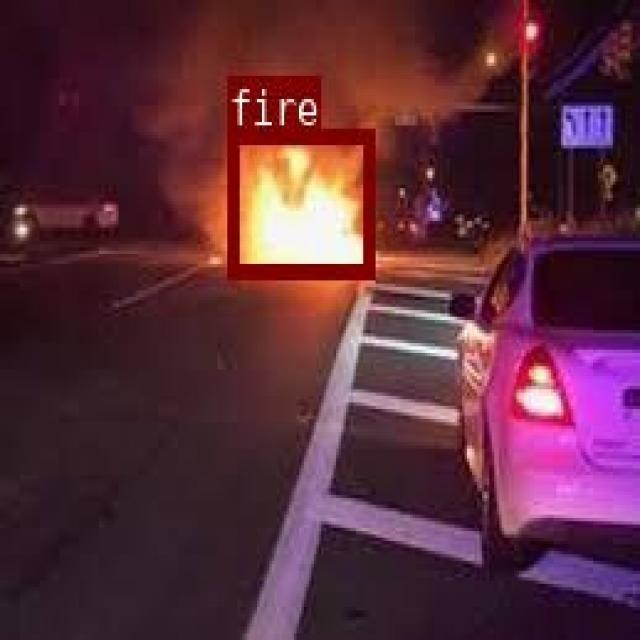fire: (226, 128, 372, 274)
